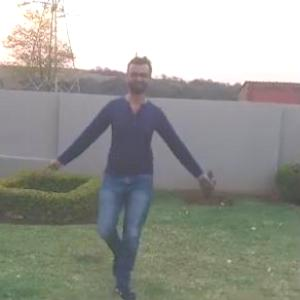land: (24, 50, 230, 289)
